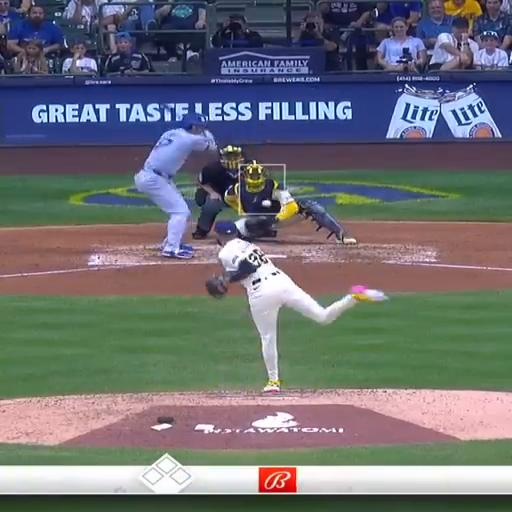bat: (158, 103, 184, 121)
